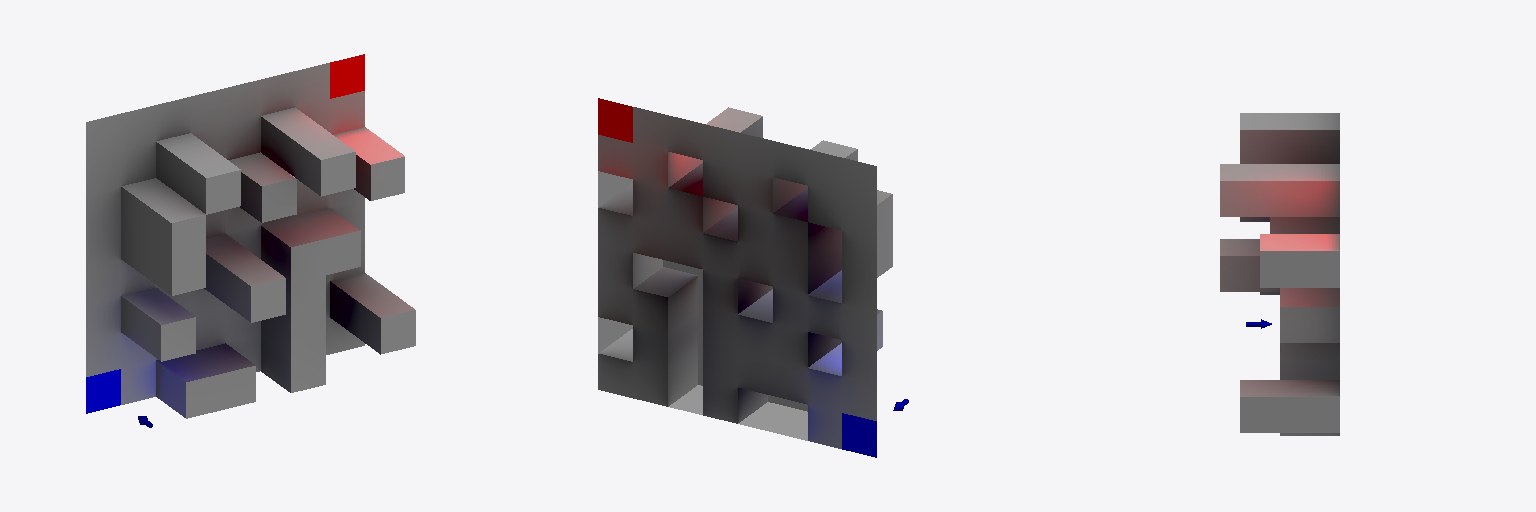
3 views of the same model, side by side, from view 1: azimuth 30°, elevation 25°; view 2: azimuth 150°, elevation 25°; view 3: azimuth 270°, elevation 25° (orthographic).
Visible parts, largest first — view 1: maze; view 2: maze; view 3: maze.
Boxes of the visible parts, x1,y1,x2,y2 form: maze: [86, 54, 415, 418]; maze: [598, 98, 892, 457]; maze: [1220, 113, 1339, 435].
Size of the model in its own units: 24 by 24 by 9.
Materials: 2 (2 with a texture image).